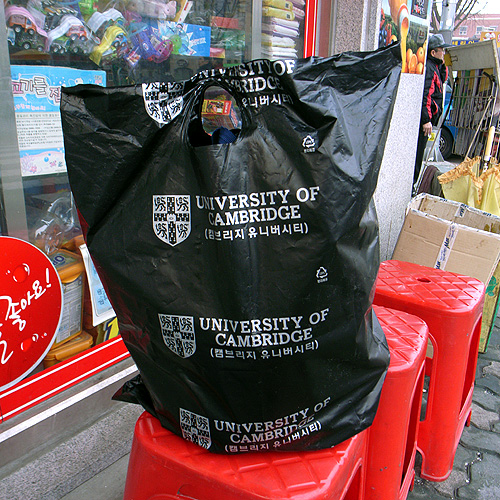plastic bag: (61, 40, 403, 455)
